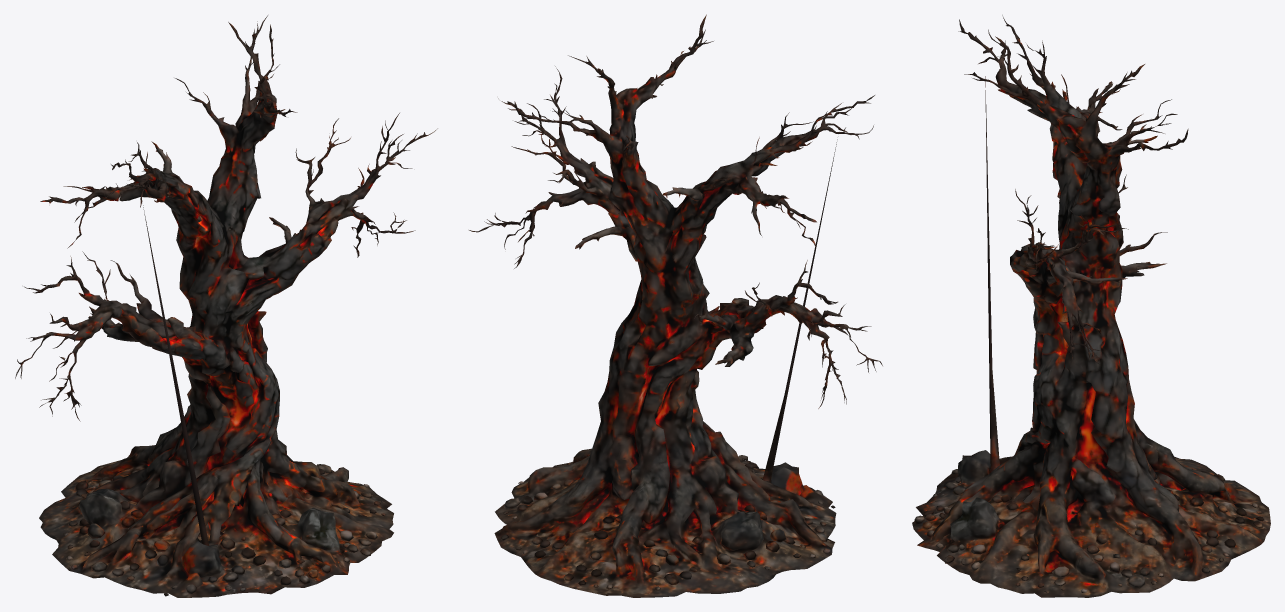
Rendered from volcano_1.glb.
3 renders of one model, left to right at view 1: azimuth 30°, elevation 25°; view 2: azimuth 150°, elevation 25°; view 3: azimuth 270°, elevation 25°, orthographic. The views are drawn at different scales.
Visible parts, largest first — view 1: geometry_0; view 2: geometry_0; view 3: geometry_0.
Part boxes in pixels (box(x1,y1,x2,y2)): geometry_0: box(15, 15, 437, 597); geometry_0: box(469, 14, 882, 597); geometry_0: box(912, 15, 1270, 597).
Size of the model in its own units: 0.8452 by 0.9536 by 0.6353.
1 material, 1 textured.
